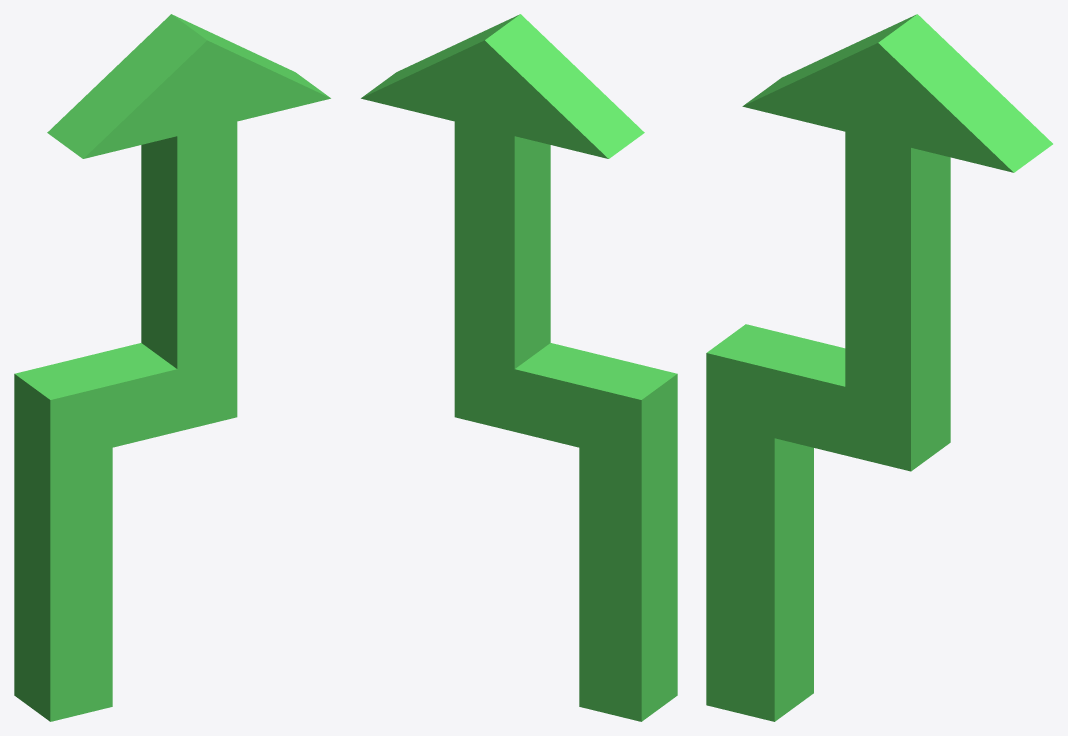
File: 腾讯云banner.glb
The picture shows the model from 3 angles, left to right: view 1: azimuth 30°, elevation 25°; view 2: azimuth 150°, elevation 25°; view 3: azimuth 330°, elevation 25°; orthographic projection. The views are drawn at different scales.
Visible parts, largest first — view 1: 立方体; view 2: 立方体; view 3: 立方体.
Part boxes in pixels (left/top/right/bottom): 立方体: left=14, top=14, right=330, bottom=721; 立方体: left=361, top=14, right=677, bottom=721; 立方体: left=706, top=14, right=1052, bottom=721.
Bounding box in the file's own units: 9.01 × 19.72 × 2.
